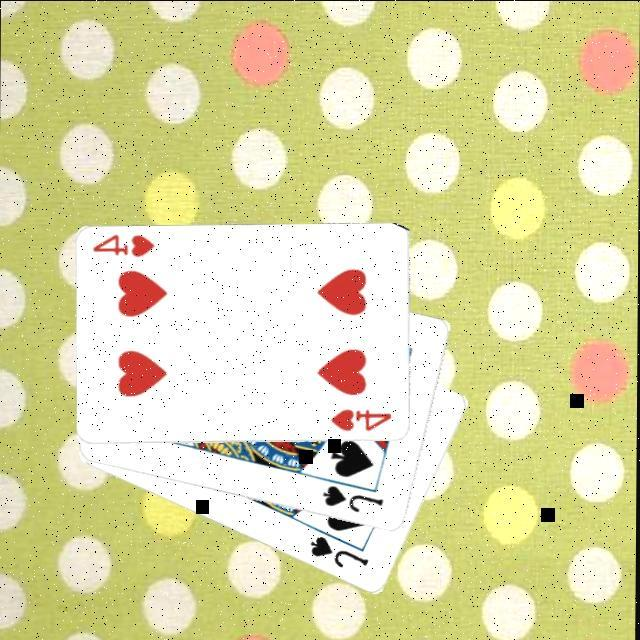4H: (88, 233, 156, 262), (327, 407, 393, 436)
JS: (305, 533, 371, 573), (317, 483, 385, 517)
